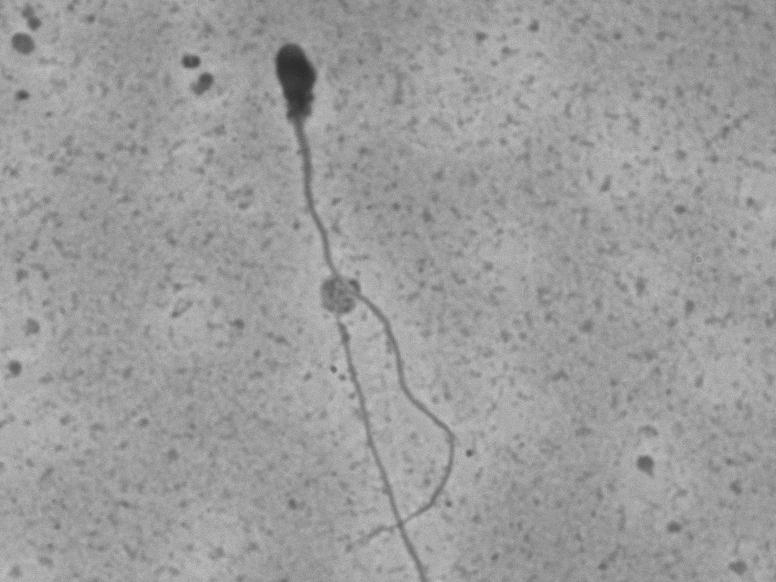Abnormal: (254, 37, 383, 558)
